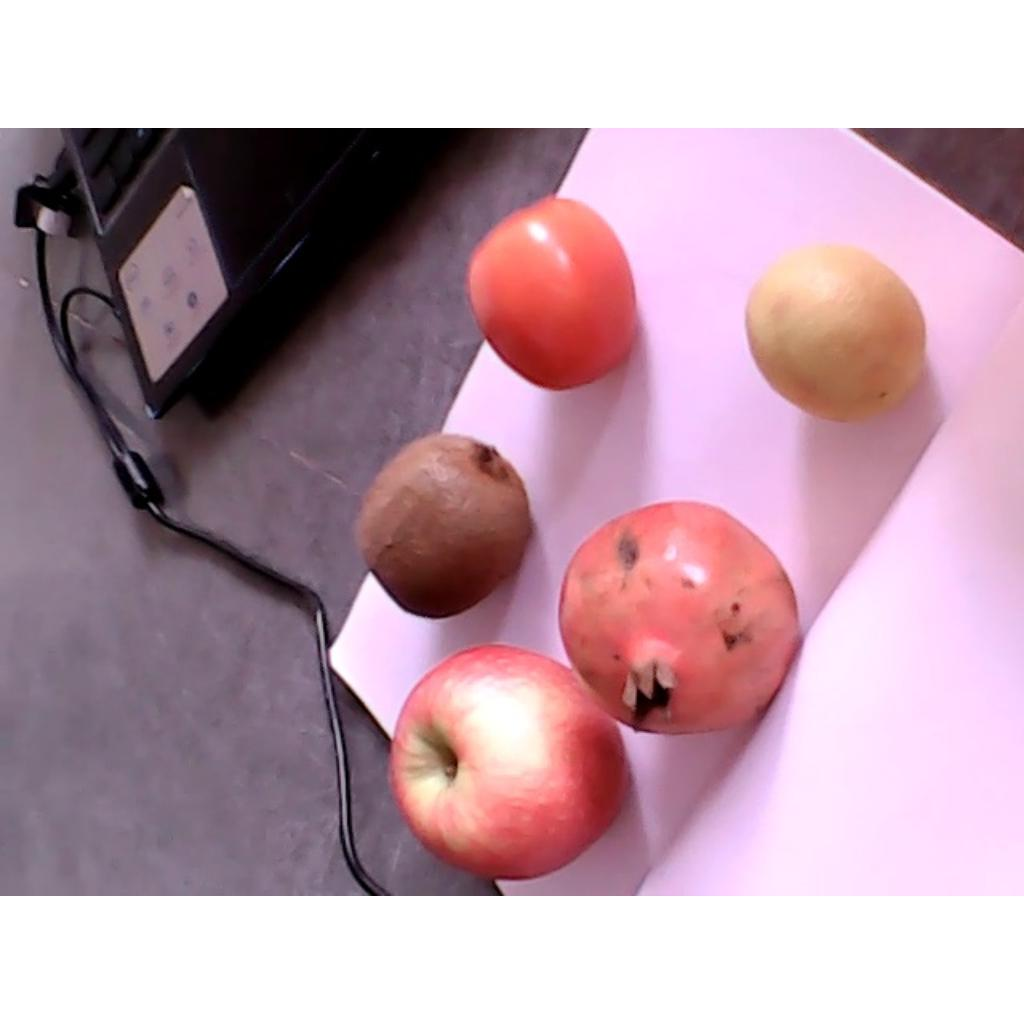apple: (390, 644, 629, 879)
kiwi: (356, 435, 529, 618)
lemon: (744, 244, 926, 420)
pomegranate: (559, 500, 801, 737)
tomato: (467, 197, 636, 391)
